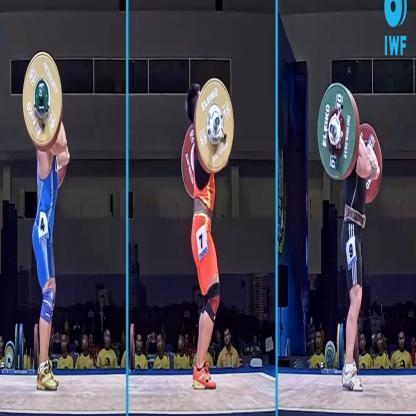barbell: (316, 83, 384, 207), (180, 78, 235, 198), (22, 50, 69, 188)
